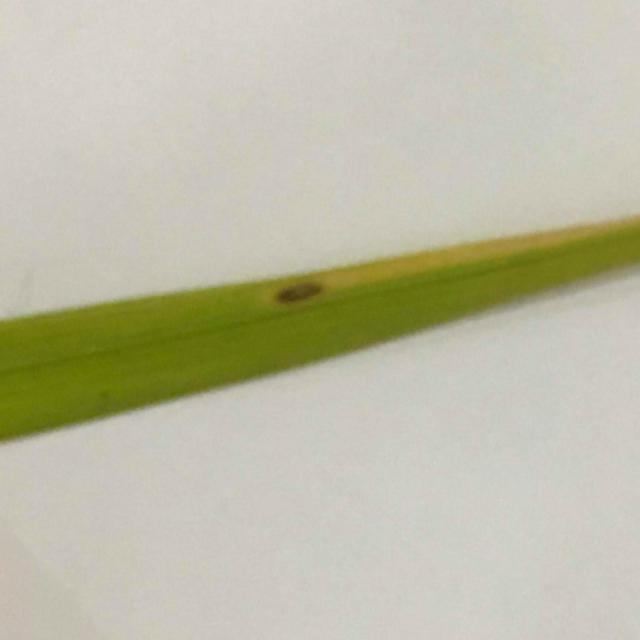Leaf blast: (2, 176, 640, 476)
